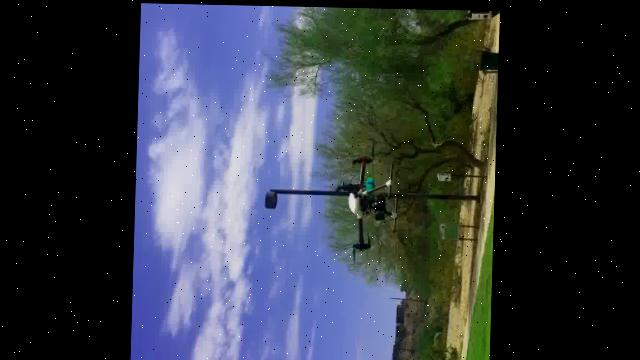drone: (341, 148, 400, 254)
